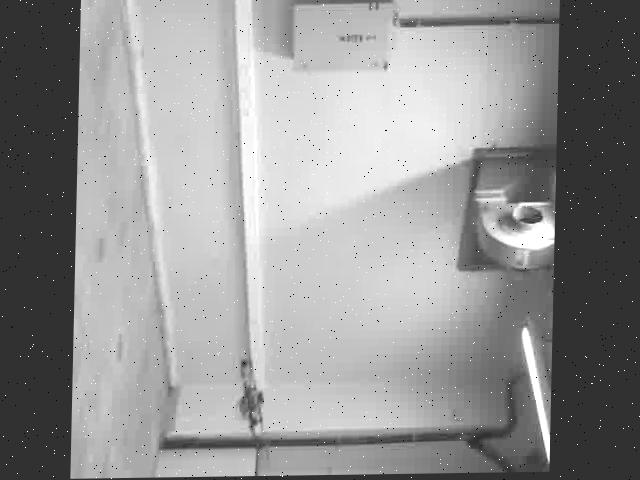drone: (235, 360, 271, 446)
